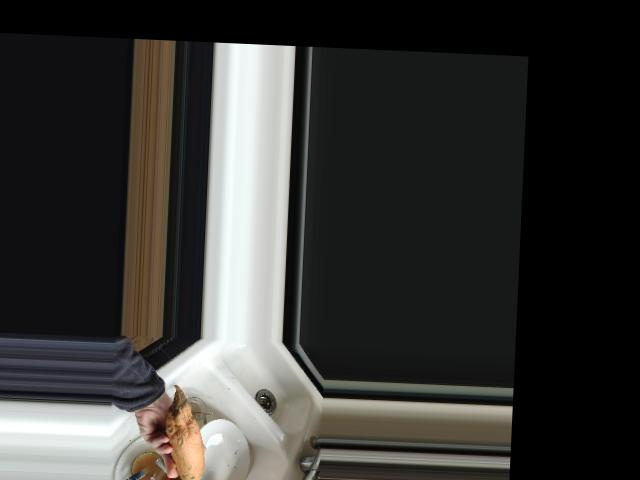sweet_potato: (163, 383, 210, 480)
